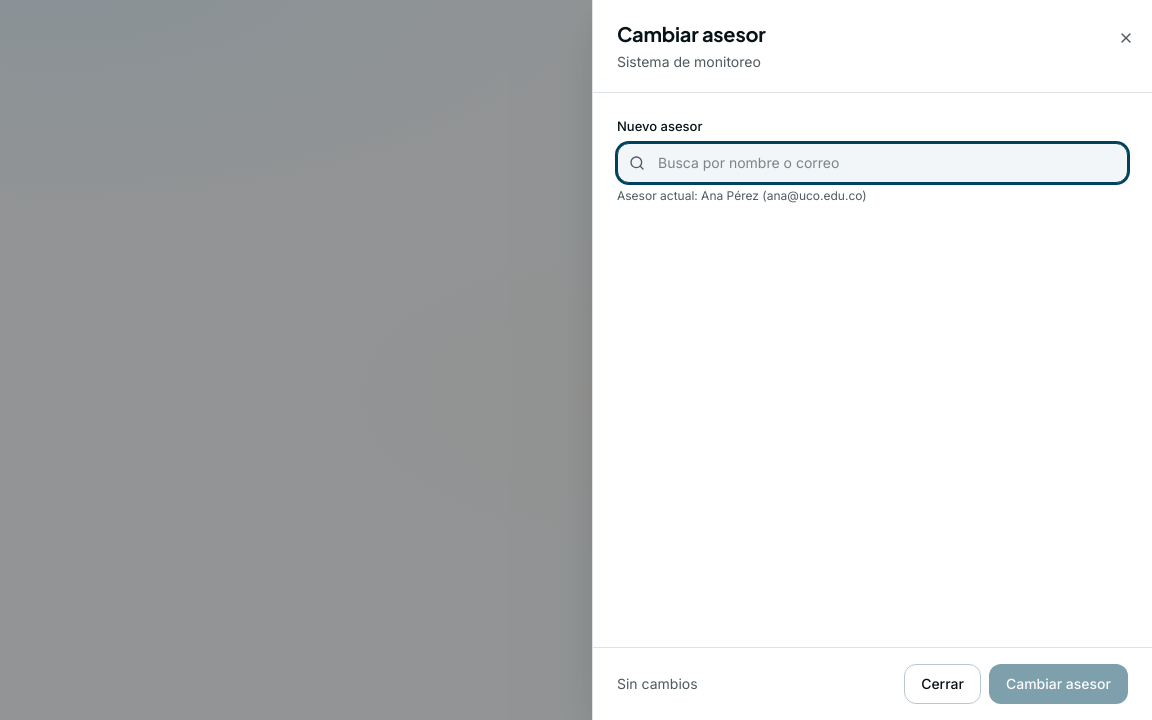
Scenario: CambiarAsesorPanel › cerrar sin cambios cierra directo y con una selección pide descartar
What coordinates should you click on to do the following:
click the button "Cerrar"
I would click on:
 (942, 684)
Its box is [904,664,981,704].
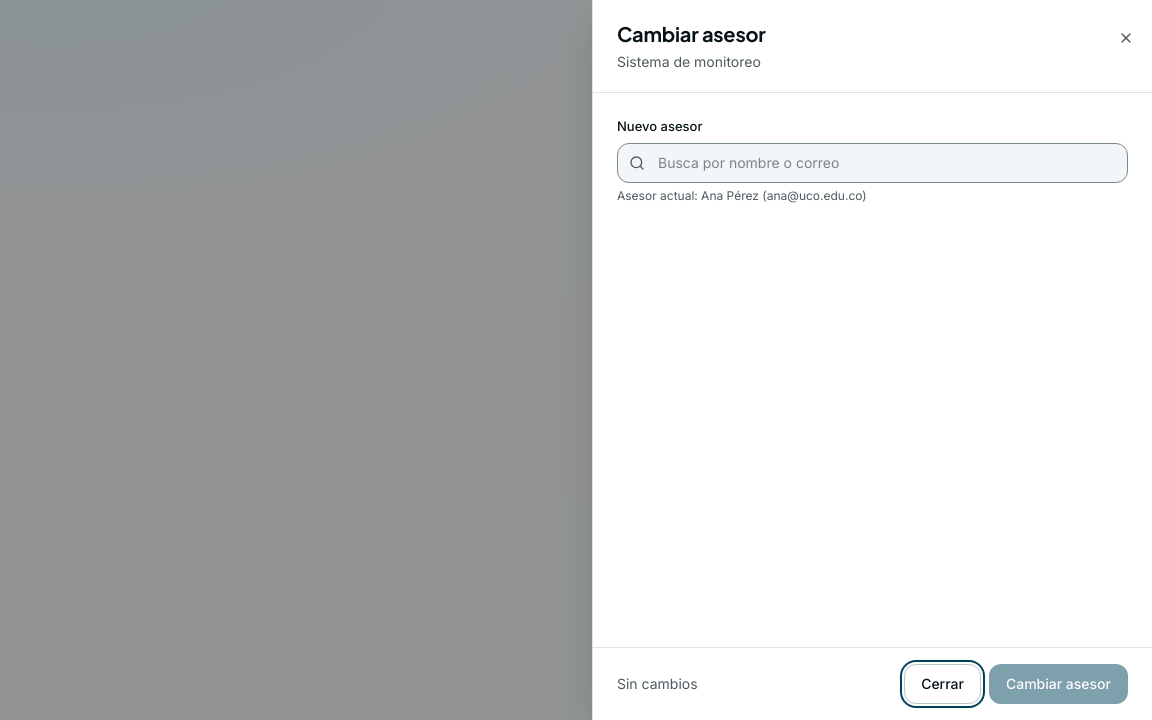
What coordinates should you click on to do the following:
click the dropdown labelled "Nuevo asesor"
I would click on:
 (872, 162)
Its box is [617,142,1128,182].
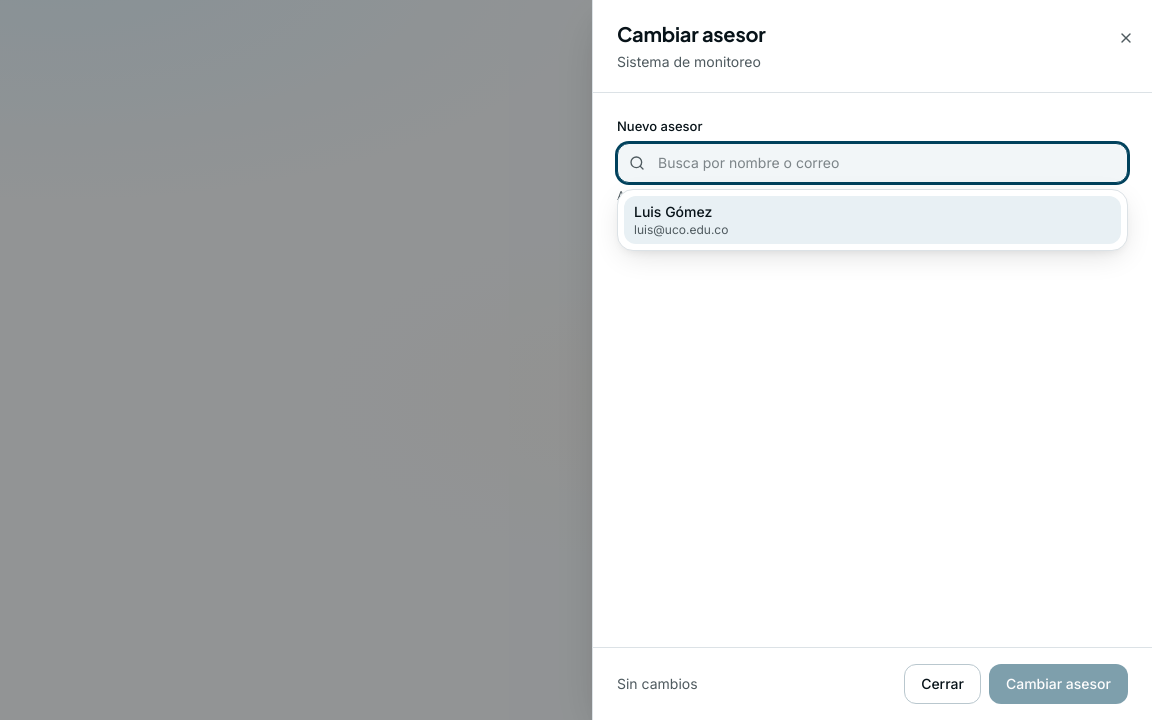
What coordinates should you click on to do the following:
click the option "Luis Gómez luis@uco.edu.co"
I would click on:
 (673, 211)
Its box is [624,196,1121,244].
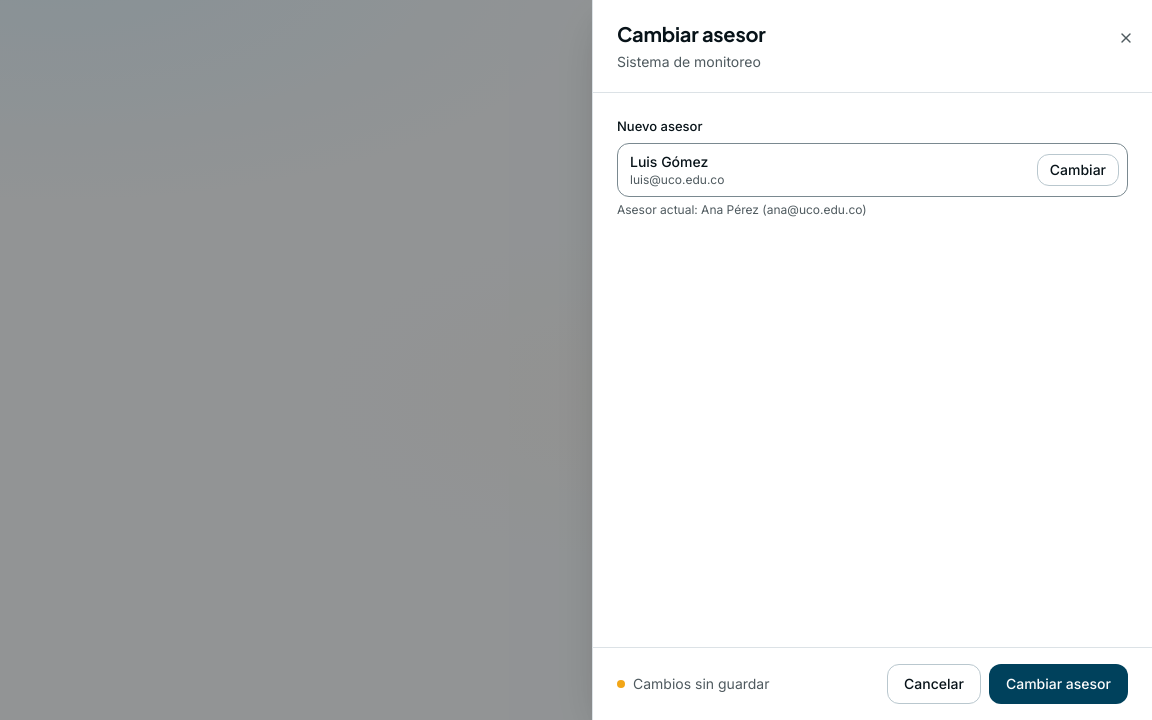
What coordinates should you click on to do the following:
click the button "Cancelar"
I would click on:
 (934, 684)
Its box is [887,664,981,704].
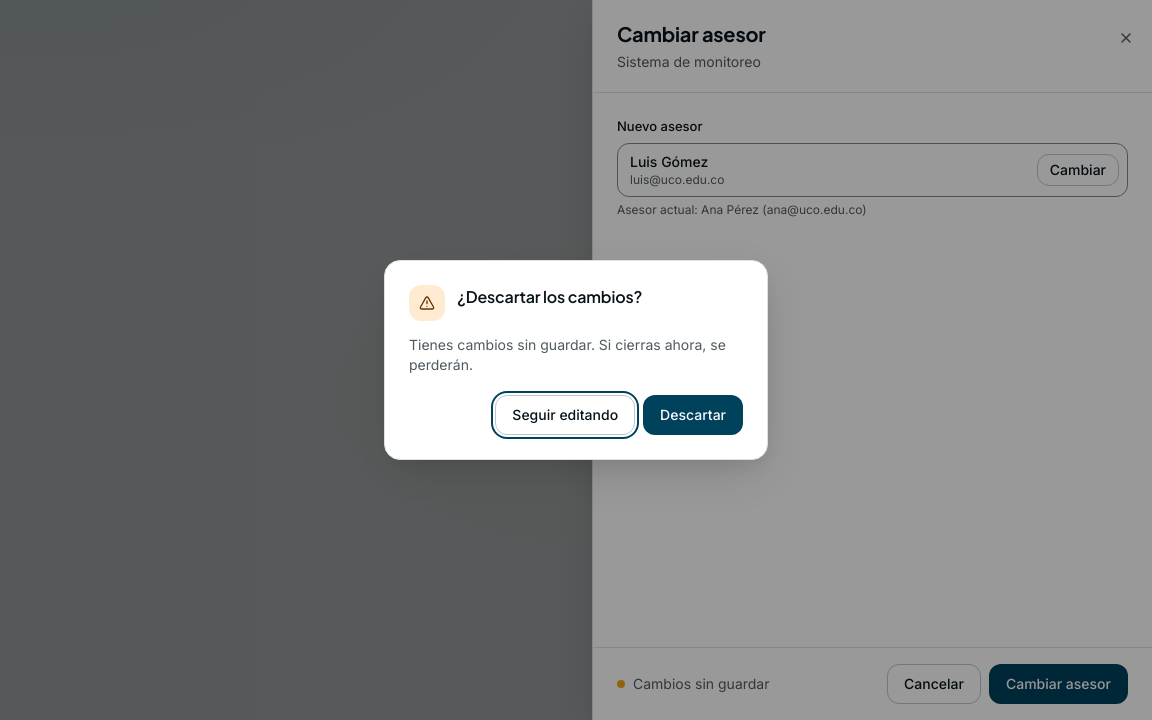
Expected: the dialog "¿Descartar los cambios?" is shown, [384,260,768,460]
